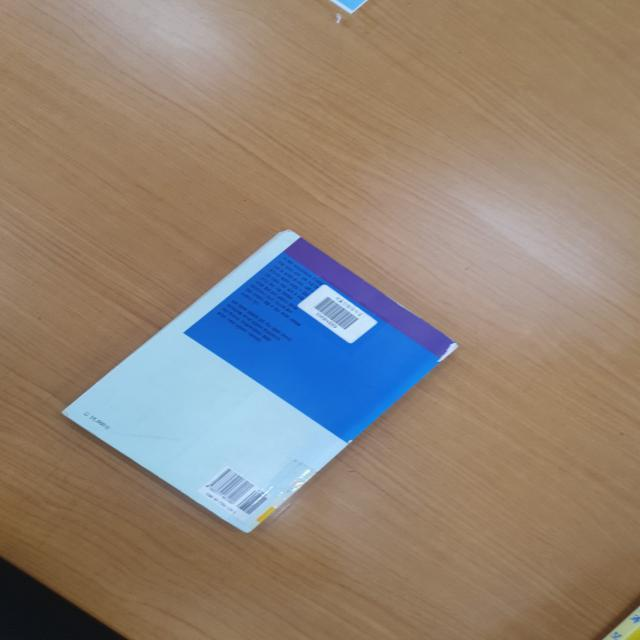Ripped: (433, 326, 461, 366)
Wornout: (377, 286, 430, 322), (271, 222, 299, 240), (59, 405, 72, 419), (345, 438, 357, 447)
